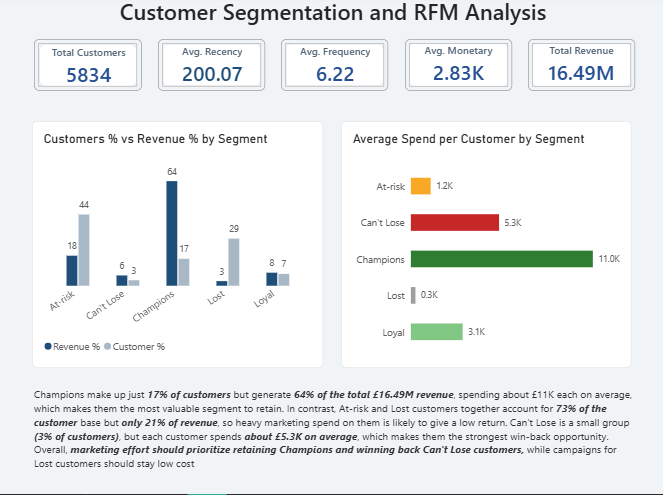

What the dashboard file says about the page in this screenshot:
{"tool":"powerbi","page":{"name":"Overview","canvas":[960,720],"ordinal":0},"visuals":[{"type":"textbox","box":[46.8,0,870.2,48.2],"z":0},{"type":"cardVisual","fields":{"Data":["CountNonNull(rfm_segments.Customer ID)"]},"box":[49.6,62.4,155.9,75.1],"z":1000},{"type":"cardVisual","fields":{"Data":["Avg(rfm_segments.Recency)"]},"box":[227.8,62.4,155,75.1],"z":2000},{"type":"cardVisual","fields":{"Data":["Avg(rfm_segments.Frequency)"]},"box":[406.5,62.4,155,75.1],"z":3000},{"type":"cardVisual","fields":{"Data":["Avg(rfm_segments.Monetary)"]},"box":[585.2,62.4,155,75.1],"z":4000},{"type":"cardVisual","fields":{"Data":["Sum(rfm_segments.Monetary)"]},"box":[763.9,62.4,155,75.1],"z":5000},{"type":"clusteredColumnChart","title":"Customers % vs Revenue % by Segment","fields":{"Category":["rfm_summary.Segment"],"Y":["Sum(rfm_summary.Revenue %)","Sum(rfm_summary.customer %)"]},"box":[46.8,181.4,420.9,357.2],"z":6000},{"type":"clusteredBarChart","title":"Average Spend per Customer by Segment","fields":{"Category":["rfm_segments.Segment"],"Y":["Avg(rfm_segments.Monetary)"]},"box":[493.2,181.4,420,357.2],"z":8000},{"type":"textbox","box":[49.6,565.5,867.4,126.1],"z":9000}]}

Visuals, with their boxes in screenshot pixels (x1, y1, x2, y2), scaled from the page's 960x720 canvas onto the 663x495 screenshot:
textbox: [32,0,633,33]
cardVisual - CountNonNull(rfm_segments.Customer ID): [34,43,142,95]
cardVisual - Avg(rfm_segments.Recency): [157,43,264,95]
cardVisual - Avg(rfm_segments.Frequency): [281,43,388,95]
cardVisual - Avg(rfm_segments.Monetary): [404,43,511,95]
cardVisual - Sum(rfm_segments.Monetary): [528,43,635,95]
"Customers % vs Revenue % by Segment" clusteredColumnChart: [32,125,323,370]
"Average Spend per Customer by Segment" clusteredBarChart: [341,125,631,370]
textbox: [34,389,633,475]
